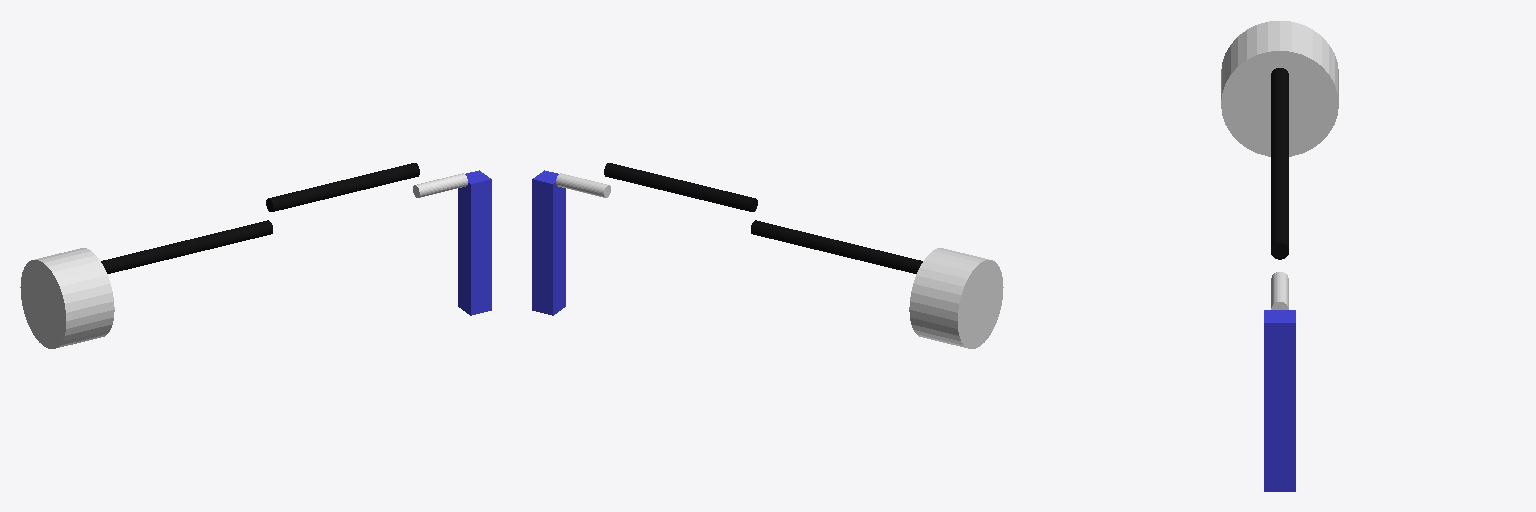
The robot description file, URDF, robot "test_setup1":
<?xml version="1.0" ?>
<!-- =================================================================================== -->
<!-- |    This document was autogenerated by xacro from test_setup3.urdf.xacro         | -->
<!-- |    EDITING THIS FILE BY HAND IS NOT RECOMMENDED                                 | -->
<!-- =================================================================================== -->
<robot name="test_setup1" xmlns:xacro="http://www.ros.org/wiki/xacro">
  <link name="base_link"/>
  <link name="end_effector">
    <visual>
      <geometry>
        <box size="0.050 0.050 0.300"/>
      </geometry>
      <origin rpy="0 0 0" xyz="0.025 0 0.150"/>
      <material name="steel">
        <color rgba="0.3 0.3 0.9 1"/>
      </material>
    </visual>
    <collision>
      <geometry>
        <box size="0.055 0.055 0.305"/>
      </geometry>
      <origin rpy="0 0 0" xyz="0.025 0 0.150"/>
    </collision>
  </link>
  <link name="dummy"/>
  <joint name="base_link_joint" type="fixed">
    <parent link="base_link"/>
    <child link="dummy"/>
    <origin rpy="0 0 0" xyz="0 0 0.300"/>
  </joint>
  <create/>
  <link name="base">
    <visual>
      <geometry>
        <cylinder length="0.115" radius="0.095"/>
      </geometry>
      <origin rpy="0 1.57079632679 0" xyz="0.0575 0 0"/>
      <material name="aluminium">
        <color rgba="0.9 0.9 0.9 1"/>
      </material>
    </visual>
    <collision>
      <geometry>
        <cylinder length="0.0575" radius="0.1"/>
      </geometry>
      <origin rpy="0 1.57079632679 0" xyz="0.115 0 0"/>
    </collision>
  </link>
  <link name="arm">
    <visual>
      <geometry>
        <cylinder length="0.425" radius="0.015"/>
      </geometry>
      <origin rpy="0 1.57079632679 0" xyz="0.2125 0 0"/>
      <material name="carbon">
        <color rgba="0.1 0.1 0.1 1"/>
      </material>
    </visual>
    <collision>
      <geometry>
        <cylinder length="0.425" radius="0.02"/>
      </geometry>
      <origin rpy="0 1.57079632679 0" xyz="0.2125 0 0"/>
    </collision>
  </link>
  <link name="fore_arm">
    <visual>
      <geometry>
        <cylinder length="0.35" radius="0.015"/>
      </geometry>
      <origin rpy="0 1.57079632679 0" xyz="0.175 0 0"/>
      <material name="carbon"/>
    </visual>
    <collision>
      <geometry>
        <cylinder length="0.35" radius="0.02"/>
      </geometry>
      <origin rpy="0 1.57079632679 0" xyz="0.175 0 0"/>
    </collision>
  </link>
  <link name="effector">
    <visual>
      <geometry>
        <cylinder length="0.115" radius="0.014"/>
      </geometry>
      <origin rpy="0 1.57079632679 0" xyz="0.0575 0 0"/>
      <material name="aluminium"/>
    </visual>
    <collision>
      <geometry>
        <cylinder length="0.115" radius="0.019"/>
      </geometry>
      <origin rpy="0 1.57079632679 0" xyz="0.0575 0 0"/>
    </collision>
  </link>
  <link name="tool0"/>
  <joint name="mounting" type="fixed">
    <parent link="dummy"/>
    <child link="base"/>
  </joint>
  <joint name="shoulder" type="revolute">
    <parent link="base"/>
    <child link="arm"/>
    <origin rpy="0 0 0" xyz="0.115 0 0.05"/>
    <axis xyz="0 0 1"/>
    <limit effort="1000.0" lower="-2.35619449019" upper="2.35619449019" velocity="0.5"/>
  </joint>
  <joint name="elbow" type="revolute">
    <parent link="arm"/>
    <child link="fore_arm"/>
    <origin rpy="0 0 0" xyz="0.425 0 0.05"/>
    <axis xyz="0 0 1"/>
    <limit effort="1000.0" lower="-2.98" upper="2.98" velocity="0.5"/>
  </joint>
  <joint name="wrist" type="revolute">
    <parent link="fore_arm"/>
    <child link="effector"/>
    <origin rpy="0 0 0" xyz="0.35 0 -0.05"/>
    <axis xyz="0 0 1"/>
    <limit effort="1000.0" lower="-2.98" upper="2.98" velocity="0.5"/>
  </joint>
  <joint name="joint_tool" type="fixed">
    <parent link="effector"/>
    <child link="tool0"/>
    <origin rpy="0 0 0" xyz="0.115 0 0"/>
  </joint>
  <joint name="base_joint" type="prismatic">
    <parent link="tool0"/>
    <child link="end_effector"/>
    <origin rpy="0 0 0" xyz="0 0 -0.300"/>
    <axis xyz="0 0 1"/>
    <limit effort="1000.0" lower="0" upper="0.300" velocity="0.5"/>
  </joint>
</robot>

--- What the picture shows (computed from the rendered views, not written in the file) ---
3 views of the same robot in one strip: view 1: azimuth 30°, elevation 25°; view 2: azimuth 150°, elevation 25°; view 3: azimuth 270°, elevation 25° (orthographic).
Model test_setup1 with 8 links and 7 joints (3 revolute, 1 prismatic, 3 fixed), rooted at base_link, posed all joints at 0.
Visible links, largest first — view 1: base, end_effector, arm, fore_arm, effector; view 2: base, end_effector, arm, fore_arm, effector; view 3: base, end_effector, fore_arm, arm, effector.
Boxes of the visible links, bbox=[...] form: base: bbox=[20, 248, 114, 348]; end_effector: bbox=[458, 170, 491, 315]; arm: bbox=[101, 220, 272, 273]; fore_arm: bbox=[266, 163, 419, 211]; effector: bbox=[413, 173, 467, 197]; base: bbox=[909, 248, 1003, 348]; end_effector: bbox=[532, 170, 565, 315]; arm: bbox=[751, 220, 922, 273]; fore_arm: bbox=[604, 163, 757, 211]; effector: bbox=[556, 173, 610, 197]; base: bbox=[1221, 21, 1338, 156]; end_effector: bbox=[1264, 310, 1295, 491]; fore_arm: bbox=[1271, 151, 1288, 259]; arm: bbox=[1271, 68, 1288, 155]; effector: bbox=[1271, 272, 1288, 309].
Bounding box of the posed robot: 1.05 × 0.19 × 0.365 m (x, y, z).
Geometry: primitives only (box / cylinder / sphere), no mesh files.